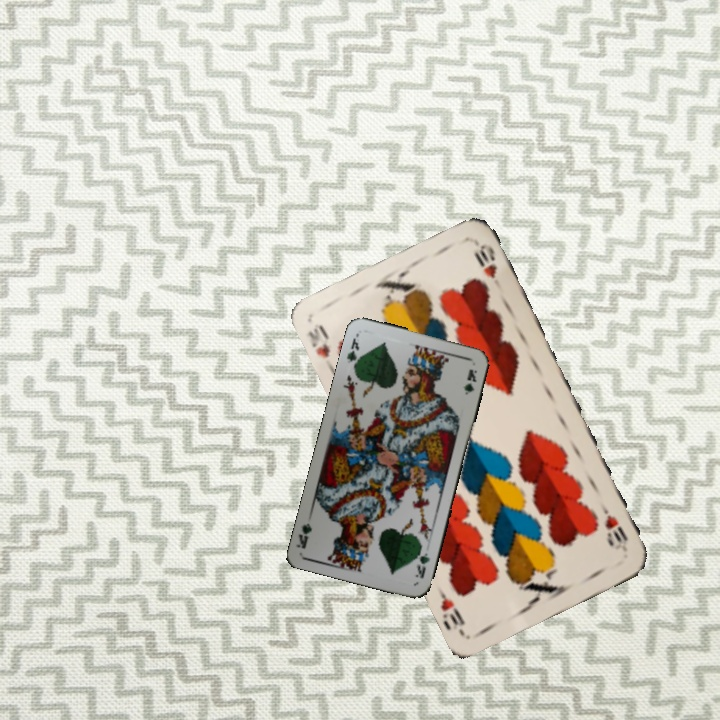GK: (411, 542, 433, 581), (342, 334, 363, 371)
H10: (303, 319, 338, 375), (596, 500, 631, 555)
